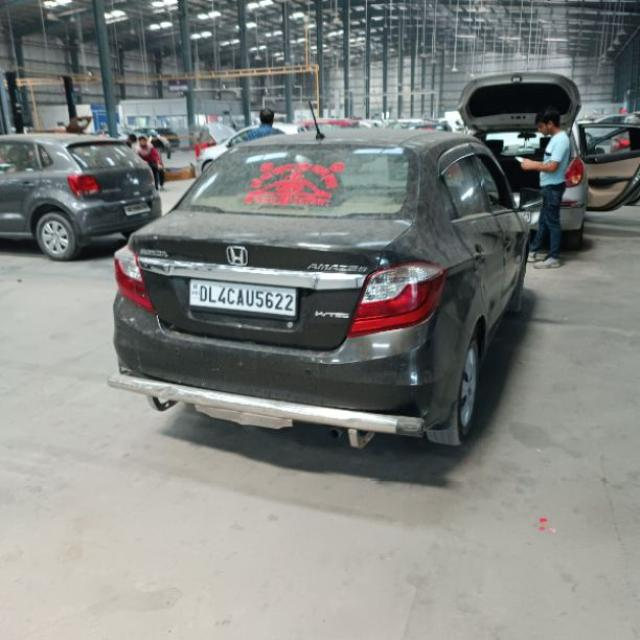license_plate: (187, 278, 299, 320)
